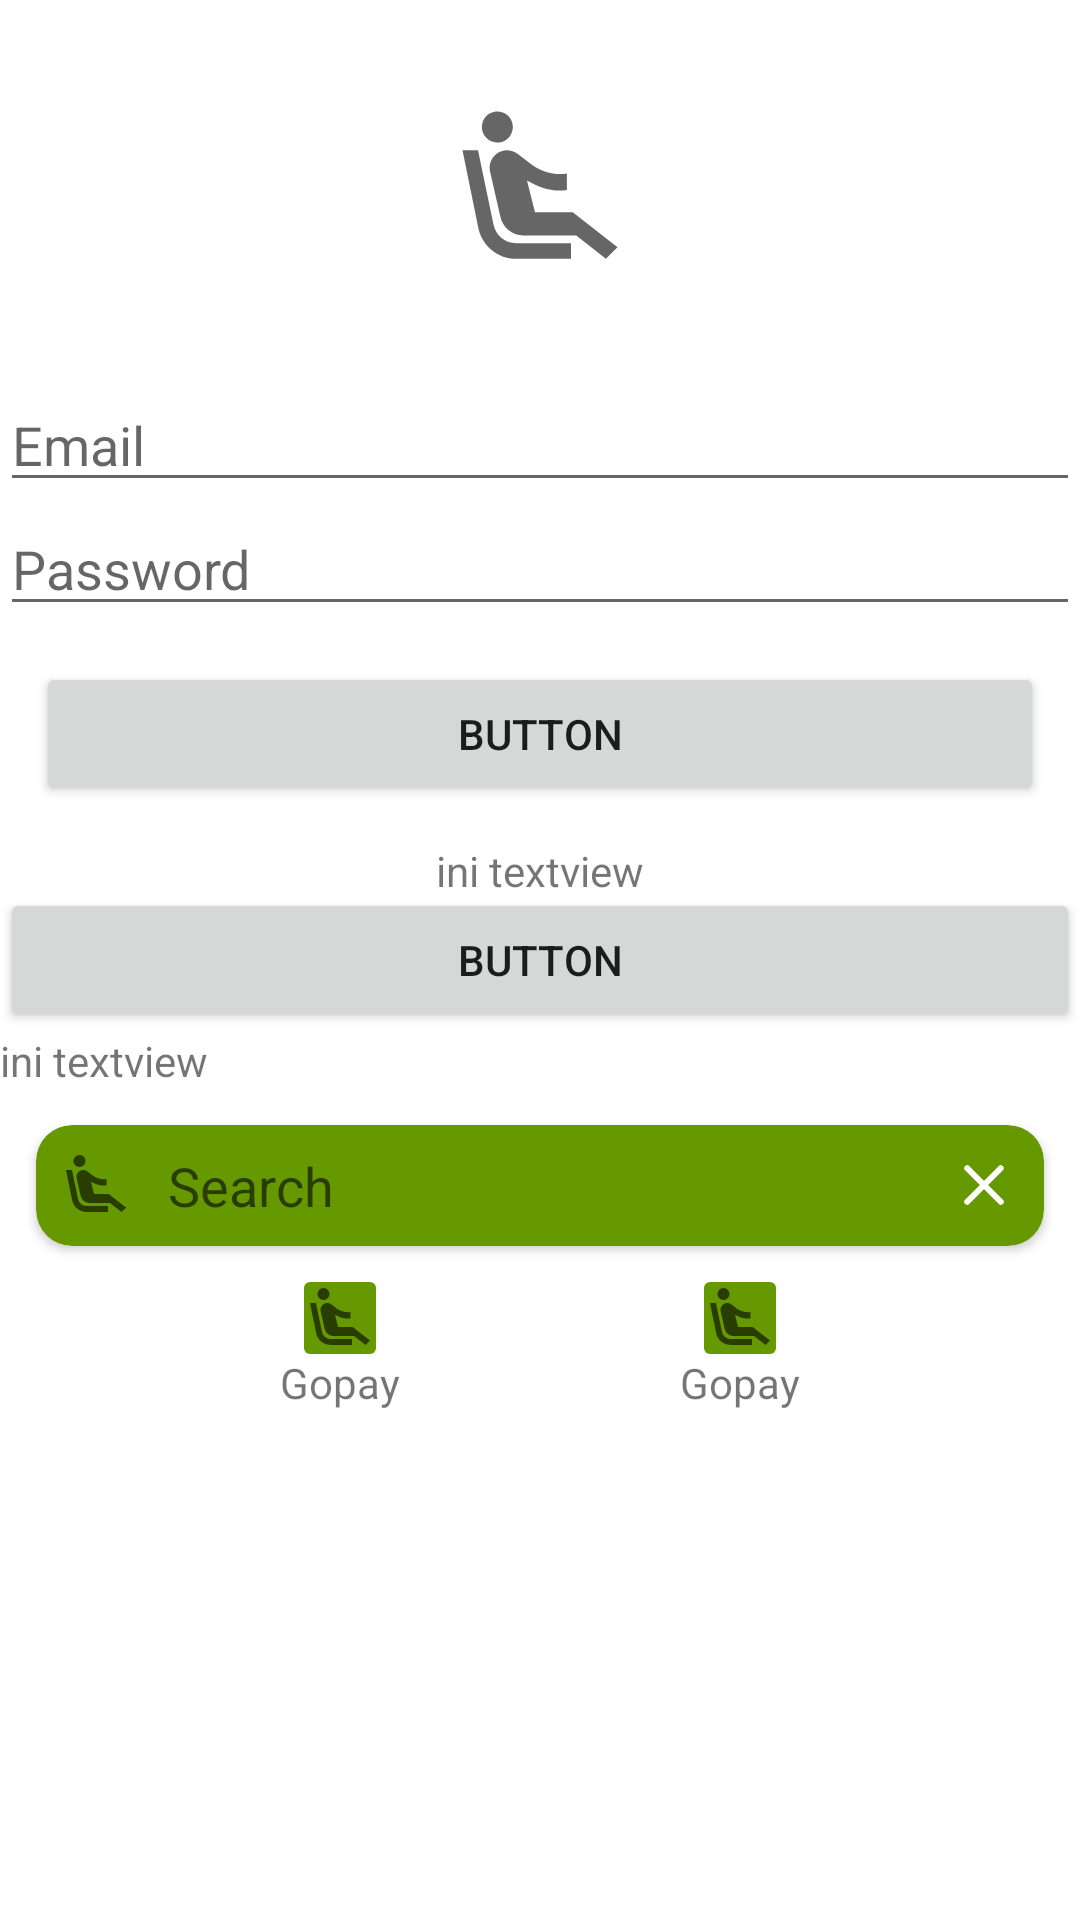

Where to tap for icons on this 1080 x 1920 app screen, as [x,y]:
seat: [540,185], [340,1318], [740,1318]
